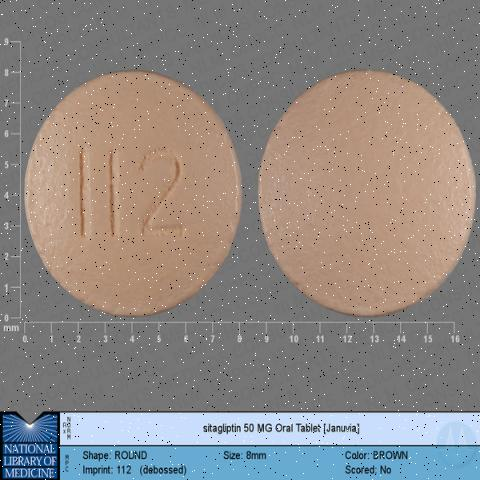Pill: (5, 36, 249, 336), (251, 41, 480, 320)
